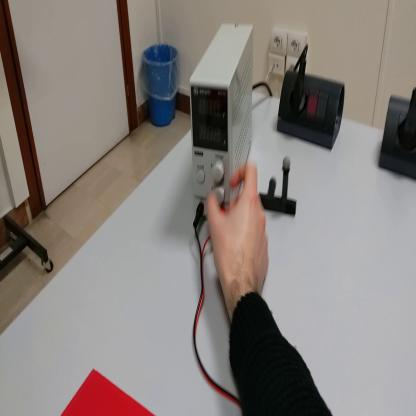hand: (207, 162, 272, 299)
power supply: (190, 21, 256, 214)
register: (63, 366, 155, 415)
socket: (280, 65, 346, 154), (380, 95, 416, 194)
